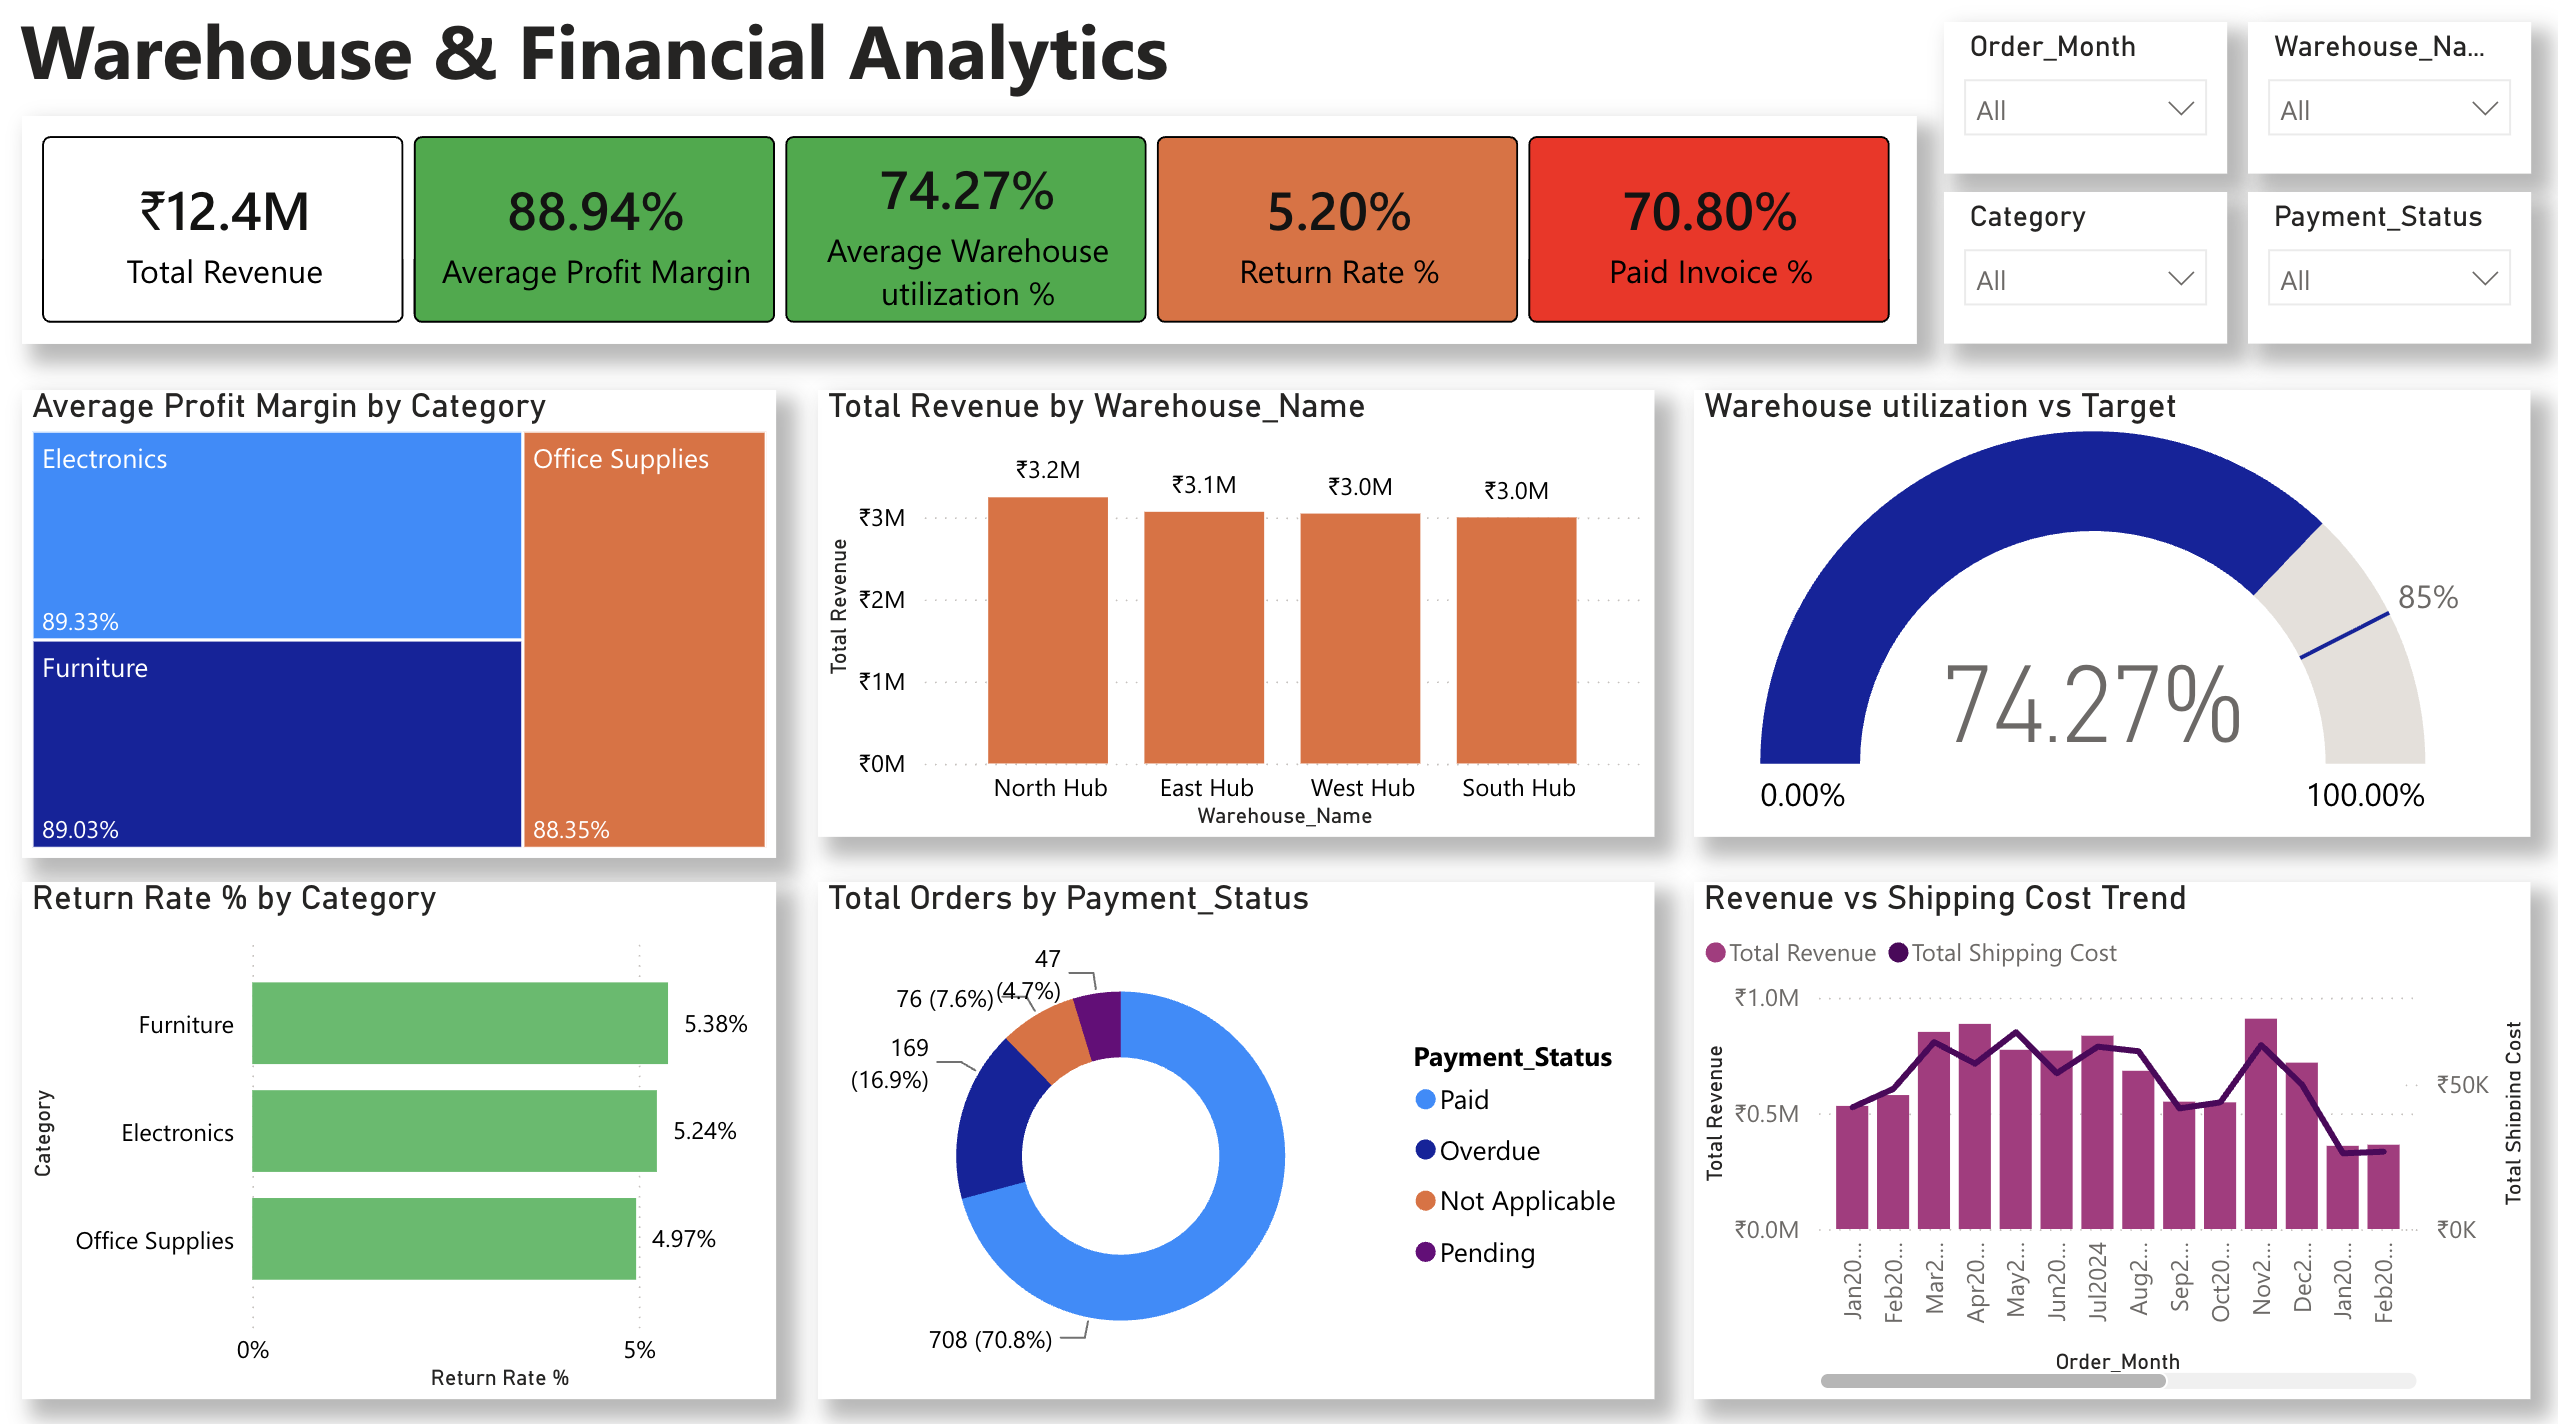

The dashboard page shown, as its layout file describes it:
{"tool":"powerbi","page":{"name":"Warehouse & Financial Analytics","canvas":[1280,720],"ordinal":3},"visuals":[{"type":"textbox","box":[10.6,0,596.6,63.6],"z":0},{"type":"cardVisual","fields":{"Data":["Orders.Total Revenue","Orders.Average Profit Margin","Orders.Average Warehouse utilization %","Orders.Return Rate %","Orders.Paid Invoice %"]},"box":[16.7,63.6,943.3,113.6],"z":1},{"type":"clusteredColumnChart","fields":{"Category":["Orders.Warehouse_Name"],"Y":["Orders.Total Revenue"]},"box":[413.4,199.9,416.4,222.6],"z":2},{"type":"gauge","title":"Warehouse utilization vs Target","fields":{"Y":["Orders.Average Warehouse utilization %"],"TargetValue":["Orders.Warehouse Target Utilization"]},"box":[849.5,199.9,416.4,222.6],"z":3},{"type":"treemap","fields":{"Group":["Orders.Category"],"Values":["Orders.Average Profit Margin"]},"box":[16.7,199.9,375.5,233.2],"z":4},{"type":"donutChart","fields":{"Category":["Orders.Payment_Status"],"Y":["Orders.Total Orders"]},"box":[413.4,445.2,416.4,257.4],"z":5},{"type":"barChart","fields":{"Category":["Orders.Category"],"Y":["Orders.Return Rate %"]},"box":[16.7,445.2,375.5,257.4],"z":6},{"type":"lineClusteredColumnComboChart","title":"Revenue vs Shipping Cost Trend","fields":{"Category":["Orders.Order_Month"],"Y":["Orders.Total Revenue"],"Y2":["Orders.Total Shipping Cost"]},"box":[849.5,445.2,416.4,257.4],"z":7},{"type":"slicer","fields":{"Values":["Orders.Order_Month"]},"box":[973.6,16.7,140.8,75.7],"z":8},{"type":"slicer","fields":{"Values":["Orders.Warehouse_Name"]},"box":[1125.1,16.7,140.8,75.7],"z":9},{"type":"slicer","fields":{"Values":["Orders.Category"]},"box":[973.6,101.5,140.8,75.7],"z":10},{"type":"slicer","fields":{"Values":["Orders.Payment_Status"]},"box":[1125.1,101.5,140.8,75.7],"z":11}]}

Visuals, with their boxes in screenshot pixels (x1, y1, x2, y2), scaled from the page's 1280x720 canvas onto the 2562x1424 screenshot:
textbox: BBox(21, 0, 1215, 126)
cardVisual - Orders.Total Revenue x Orders.Average Profit Margin: BBox(33, 126, 1922, 350)
clusteredColumnChart - Orders.Warehouse_Name x Orders.Total Revenue: BBox(827, 395, 1661, 836)
"Warehouse utilization vs Target" gauge: BBox(1700, 395, 2534, 836)
treemap - Orders.Category x Orders.Average Profit Margin: BBox(33, 395, 785, 857)
donutChart - Orders.Payment_Status x Orders.Total Orders: BBox(827, 881, 1661, 1390)
barChart - Orders.Category x Orders.Return Rate %: BBox(33, 881, 785, 1390)
"Revenue vs Shipping Cost Trend" lineClusteredColumnComboChart: BBox(1700, 881, 2534, 1390)
slicer - Orders.Order_Month: BBox(1949, 33, 2231, 183)
slicer - Orders.Warehouse_Name: BBox(2252, 33, 2534, 183)
slicer - Orders.Category: BBox(1949, 201, 2231, 350)
slicer - Orders.Payment_Status: BBox(2252, 201, 2534, 350)
